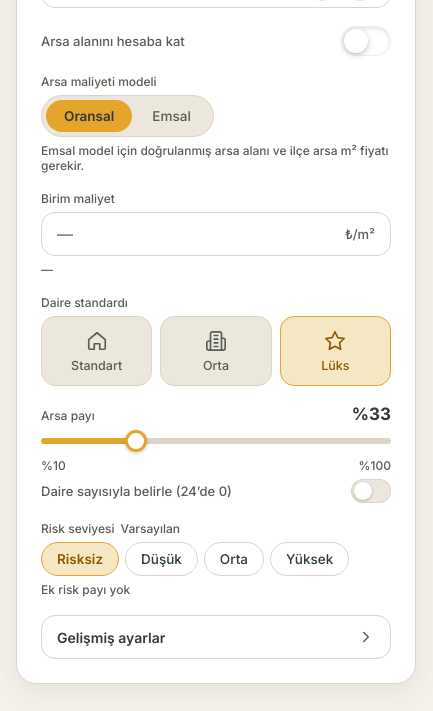
Test: /hesapla — masaüstü Gelişmiş ayarlar (sol kartta açılır bölüm) › açılan bölümde iksa "Elle (₺)" seçilince tutar alanı, "Yüzde" seçilince oran alanı gelir (kablolama sağlam)
(page scrolled)
Click the button "Gelişmiş ayarlar". click: click(111, 637)
box: top-left (41, 615), bottom-right (391, 659)
(page scrolled)
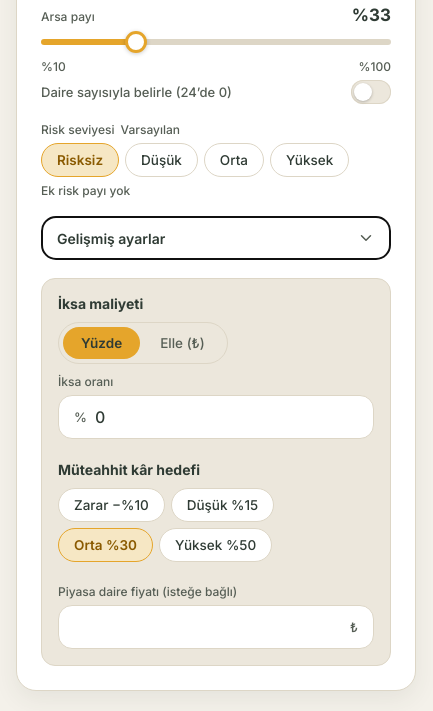
Click the button "Elle (₺)". click: click(183, 343)
box: top-left (142, 327), bottom-right (223, 359)
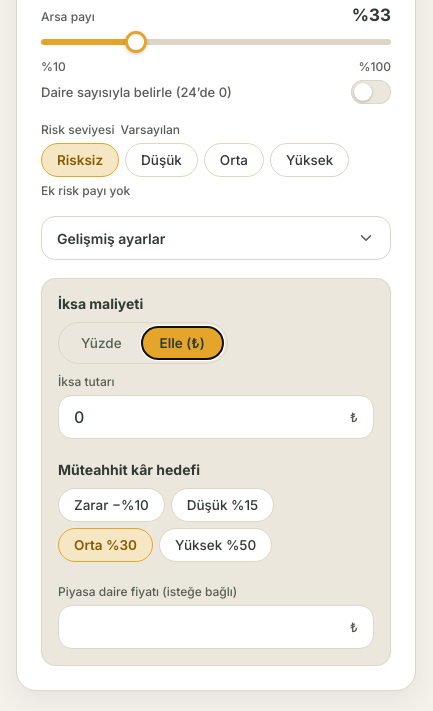
Result: the field labelled "İksa tutarı" is shown at top-left (74, 407), bottom-right (342, 427)
Click the button "Yüzde". click: click(101, 343)
box: top-left (63, 327), bottom-right (140, 359)
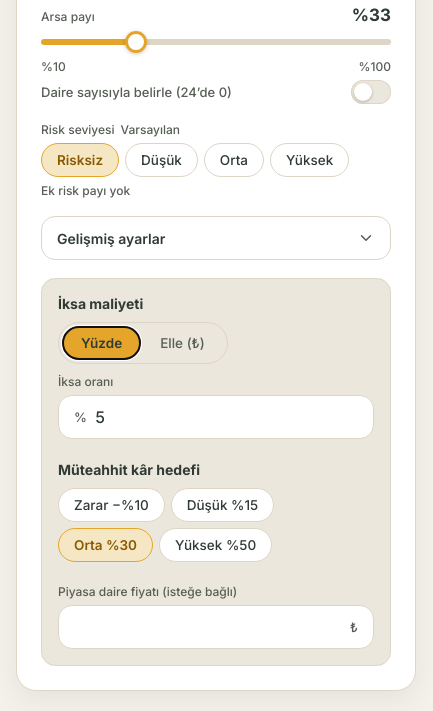
Result: the number field labelled "İksa oranı" is shown at top-left (95, 407), bottom-right (358, 427)
